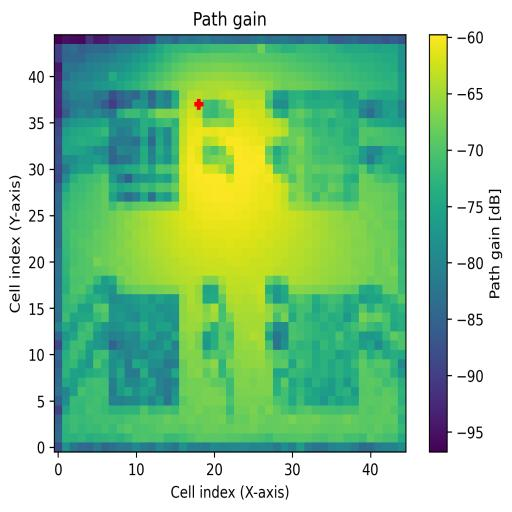Concrete: (288, 91, 358, 202)
Glass: (109, 90, 179, 203)
Metal: (288, 286, 360, 405)
Wood: (109, 295, 179, 405)
